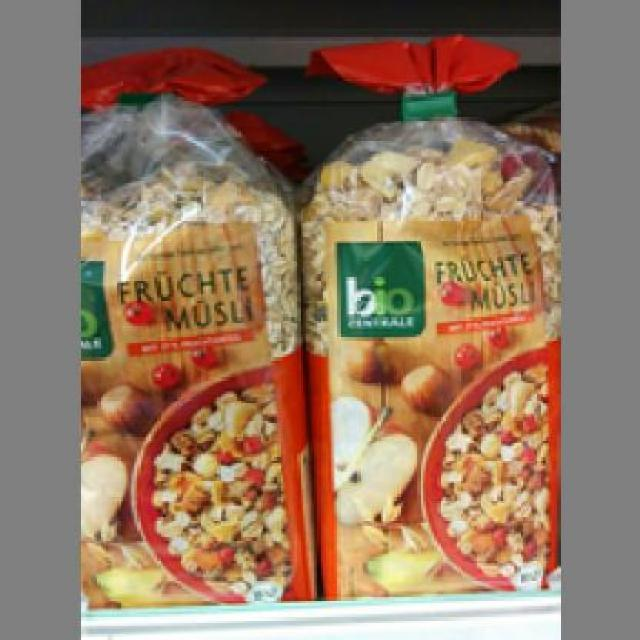Cereal: (300, 34, 560, 594), (77, 46, 314, 608)
